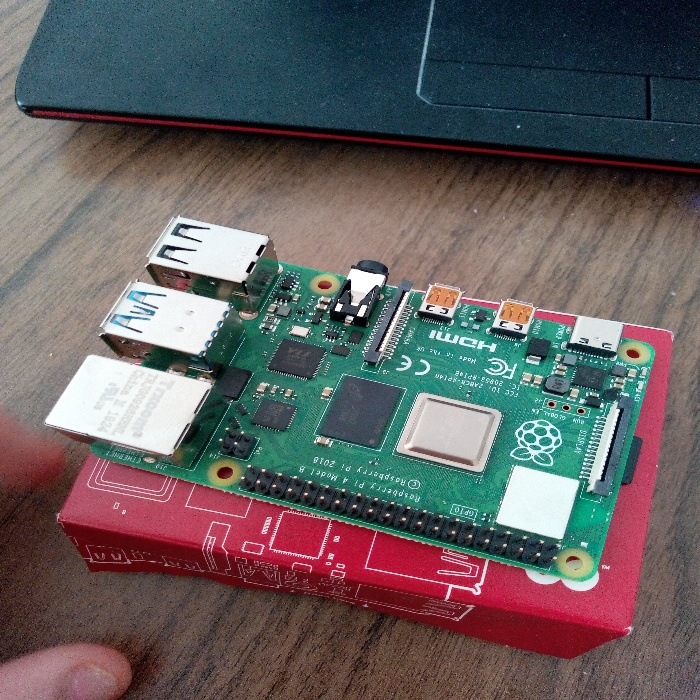raspberry: (47, 187, 681, 588)
